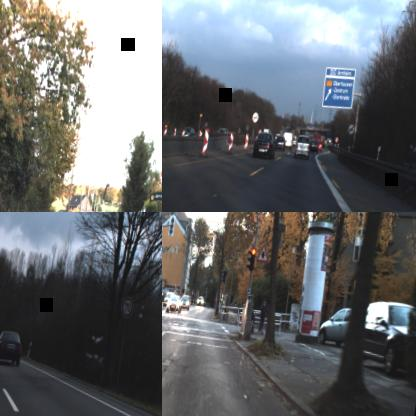priority at next intersection: (254, 240, 272, 263)
restriction ends 80: (250, 111, 258, 123), (346, 123, 354, 135)
speed limit 70: (118, 294, 134, 318)
